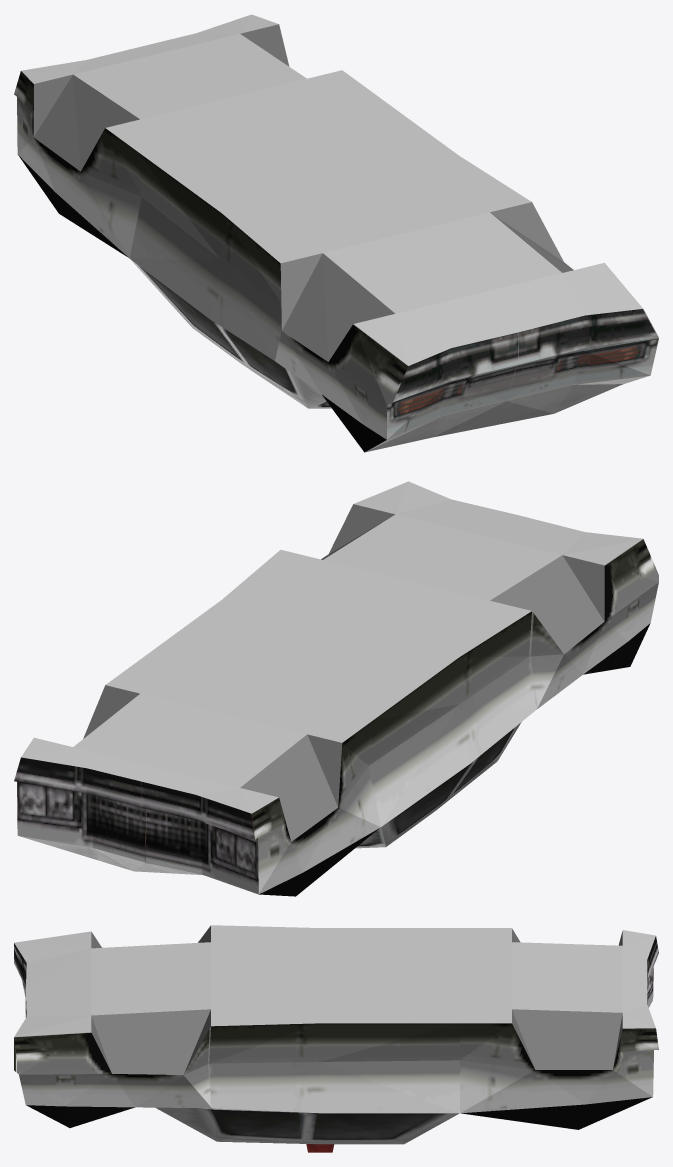
The model's file is CHICAGO_model0_damaged.obj.
3 views of the same model, one above another, from view 1: azimuth 30°, elevation 25°; view 2: azimuth 150°, elevation 25°; view 3: azimuth 270°, elevation 25° (orthographic). The views are drawn at different scales.
Visible parts, largest first — view 1: CHICAGO_model0_damaged; view 2: CHICAGO_model0_damaged; view 3: CHICAGO_model0_damaged.
Boxes of the visible parts, bbox=[...] form: CHICAGO_model0_damaged: bbox=[14, 14, 658, 452]; CHICAGO_model0_damaged: bbox=[14, 481, 658, 896]; CHICAGO_model0_damaged: bbox=[14, 925, 658, 1152].
Bounding box in the file's own units: 274 × 176 × 658.
